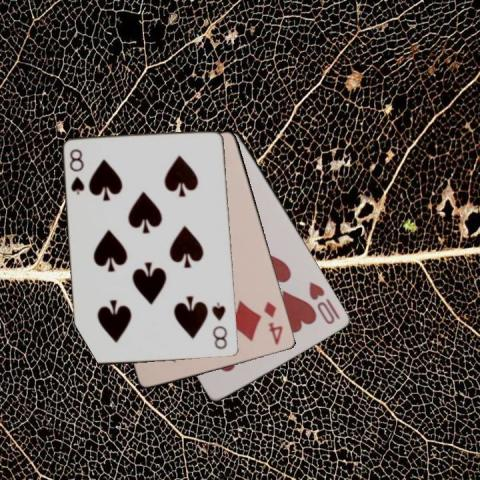10h: (306, 279, 342, 326)
4d: (260, 298, 284, 346)
8s: (209, 300, 229, 351), (67, 146, 86, 196)
